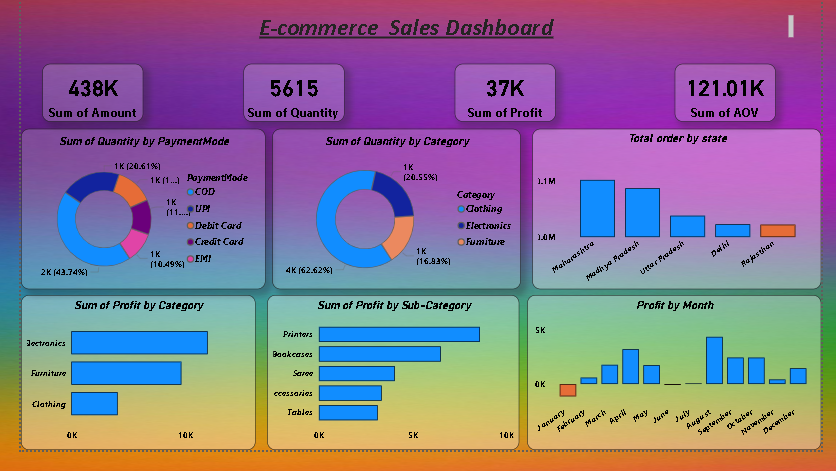

The page's visual inventory and layout, read from the dashboard file:
{"tool":"powerbi","page":{"name":"Page 1","canvas":[1280,720],"ordinal":0},"visuals":[{"type":"textbox","box":[0,18.3,1241.2,50.1],"z":0},{"type":"columnChart","title":"Profit by Month","fields":{"Category":["Orders.Date.Variation.Date Hierarchy.Month"],"Y":["Sum(Details (2).Profit)"]},"box":[809.5,472,470.8,248.2],"z":1000},{"type":"clusteredBarChart","fields":{"Y":["Sum(Details (2).Profit)"],"Category":["Details (2).Category"]},"box":[0,472,375.4,248.2],"z":2000},{"type":"donutChart","fields":{"Series":["Details (2).Category"],"Y":["Sum(Details (2).Quantity)"]},"box":[401.1,206.7,397.4,256.8],"z":3000},{"type":"donutChart","fields":{"Category":["Details (2).PaymentMode"],"Y":["Sum(Details (2).Quantity)"]},"box":[0,206.7,391.3,256.8],"z":4000},{"type":"columnChart","title":"Total order by state","fields":{"Y":["Sum(Details (2).Amount)"],"Category":["Orders.State"]},"box":[818.1,206.7,462.2,256.8],"z":5000},{"type":"clusteredBarChart","fields":{"Category":["Details (2).Sub-Category"],"Y":["Sum(Details (2).Profit)"]},"box":[395,472,403.5,248.2],"z":6000},{"type":"card","fields":{"Values":["Sum(Details (2).Amount)"]},"box":[34.2,101.5,161.4,92.9],"z":7000},{"type":"card","fields":{"Values":["Sum(Details (2).Quantity)"]},"box":[355.8,101.5,161.4,92.9],"z":8000},{"type":"card","fields":{"Values":["Sum(Details (2).Profit)"]},"box":[693.3,101.5,161.4,92.9],"z":9000},{"type":"card","fields":{"Values":["Sum(Details (2).AOV)"]},"box":[1045.5,101.5,161.4,92.9],"z":10000}]}

Visuals, with their boxes in screenshot pixels (x1, y1, x2, y2), scaled from the page's 1280x720 canvas onto the 836x471 screenshot:
textbox: 0 12 811 45
"Profit by Month" columnChart: 529 309 835 470
clusteredBarChart - Sum(Details (2).Profit) x Details (2).Category: 0 309 245 470
donutChart - Details (2).Category x Sum(Details (2).Quantity): 262 135 522 303
donutChart - Details (2).PaymentMode x Sum(Details (2).Quantity): 0 135 256 303
"Total order by state" columnChart: 534 135 835 303
clusteredBarChart - Details (2).Sub-Category x Sum(Details (2).Profit): 258 309 522 470
card - Sum(Details (2).Amount): 22 66 128 127
card - Sum(Details (2).Quantity): 232 66 338 127
card - Sum(Details (2).Profit): 453 66 558 127
card - Sum(Details (2).AOV): 683 66 788 127
